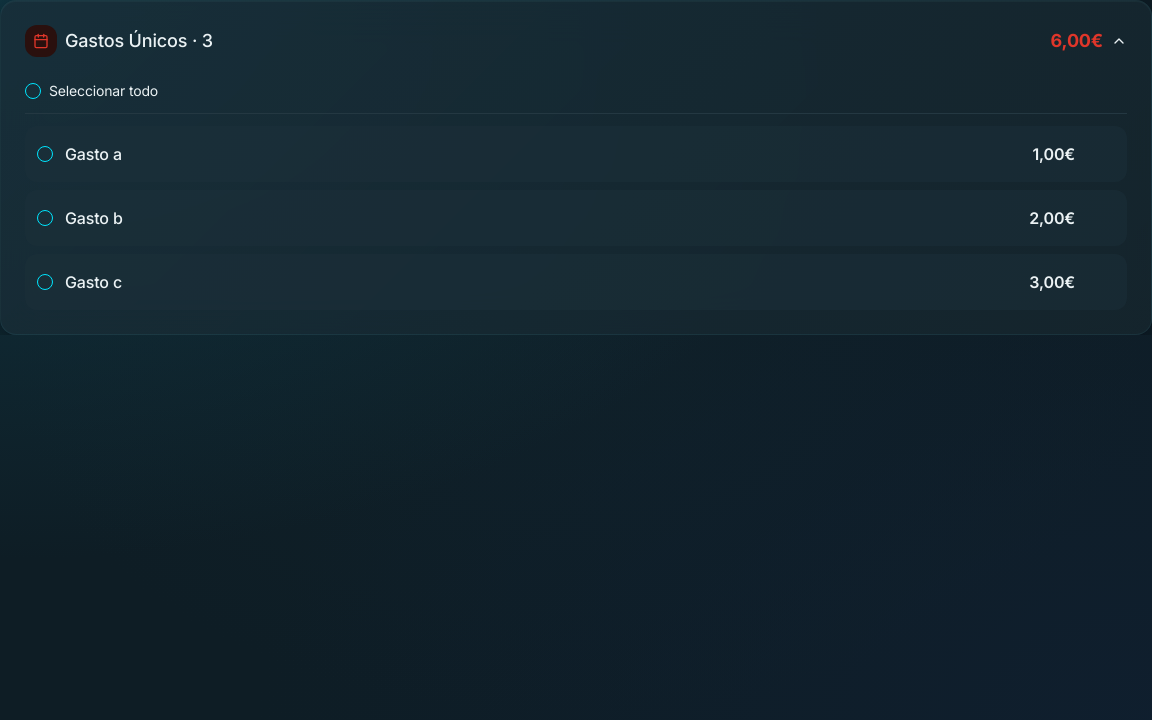
Test: selección y borrado de gastos › elimina una vez cada id seleccionado y ninguno sin seleccionar al confirmar
Earlier steps of the test are not shown.
Step 1. Click the checkbox named "Seleccionar Gasto a" → (45, 154), box [37, 146, 53, 162]
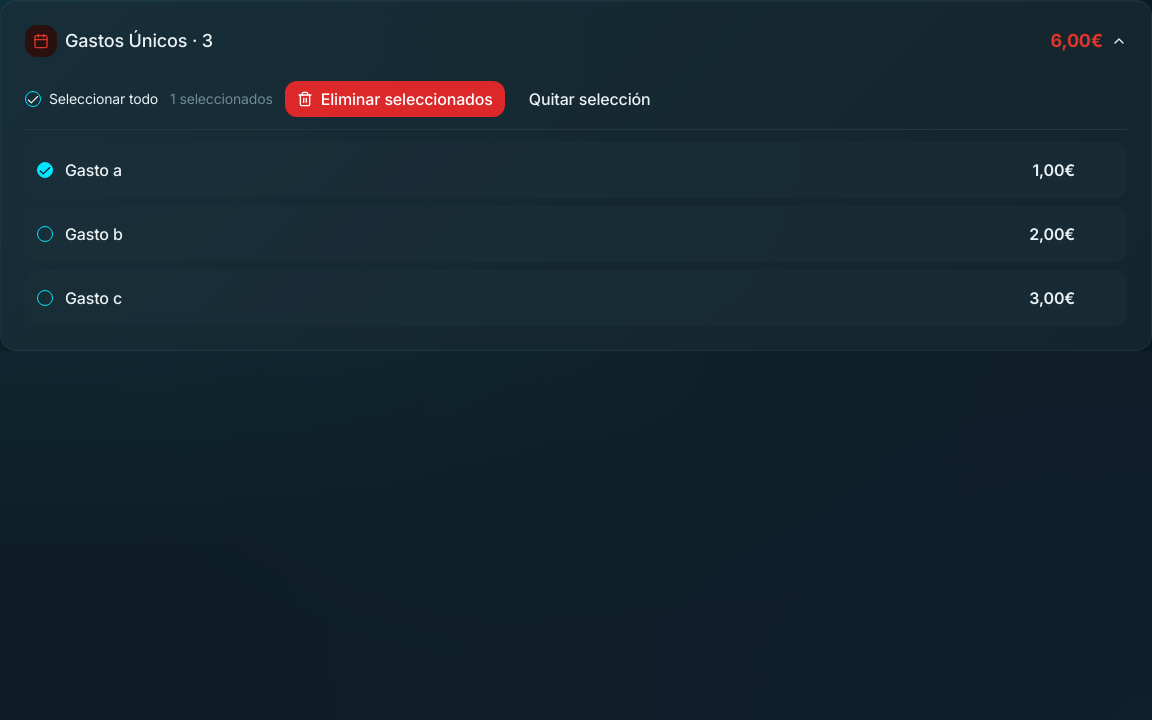
Step 2. Click the checkbox named "Seleccionar Gasto c" → (45, 298), box [37, 290, 53, 306]
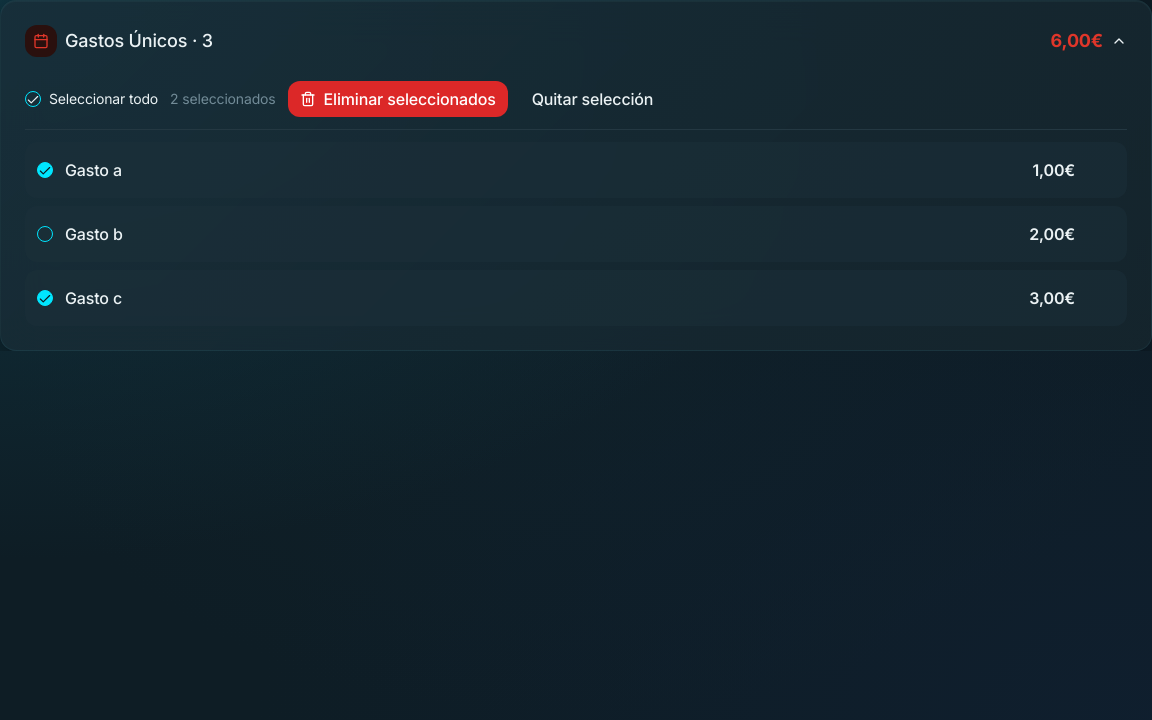
Step 3. Click the button "Eliminar seleccionados" → (398, 99), box [288, 81, 508, 117]
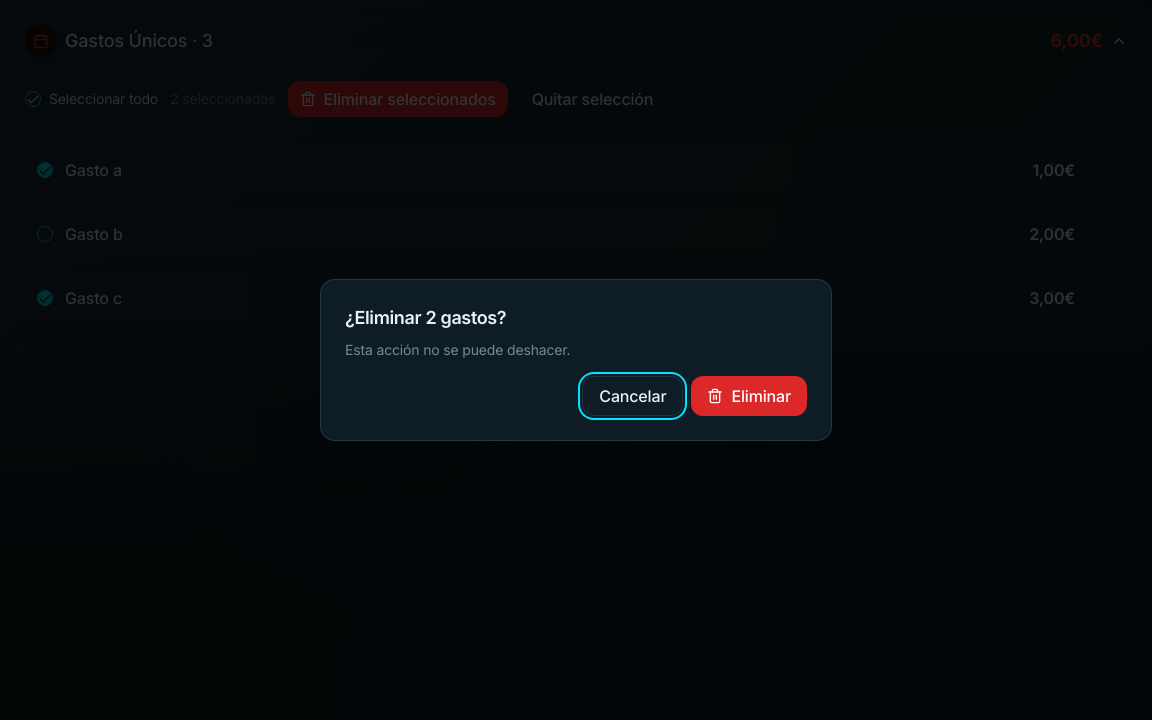
Step 4. Click the button "Eliminar" → (749, 396), box [691, 376, 807, 416]
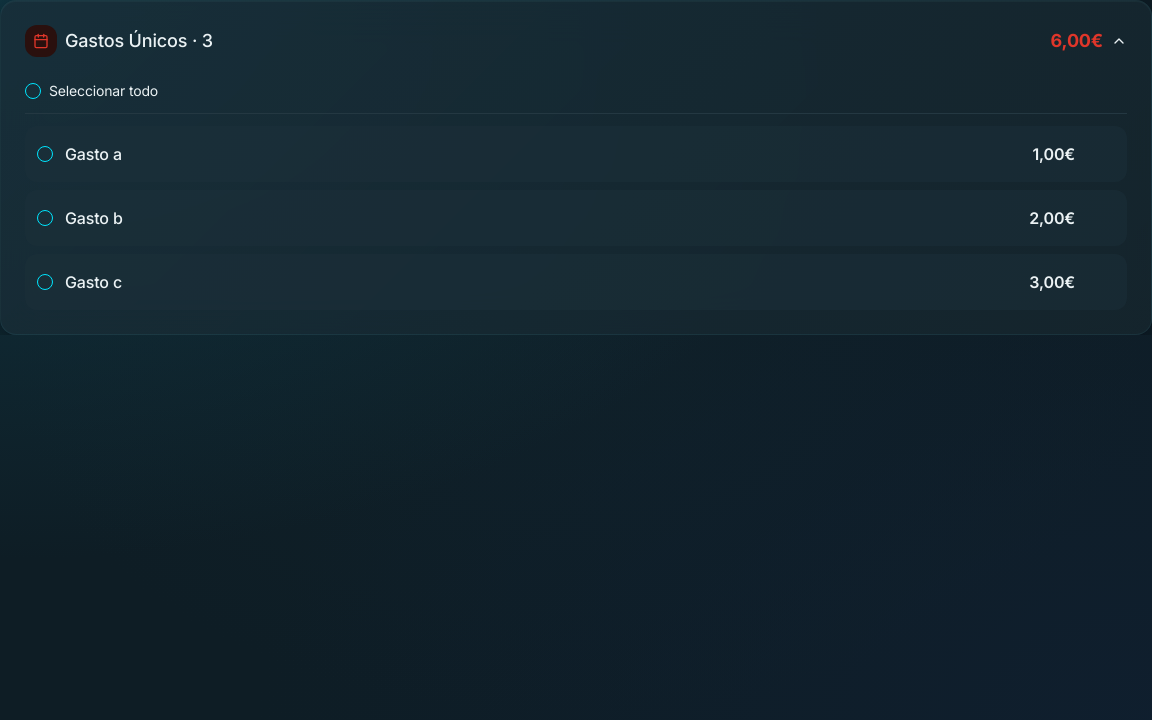
Step 5. Click the button "Gastos Únicos · 3 6,00€" → (41, 41), box [13, 13, 1139, 69]
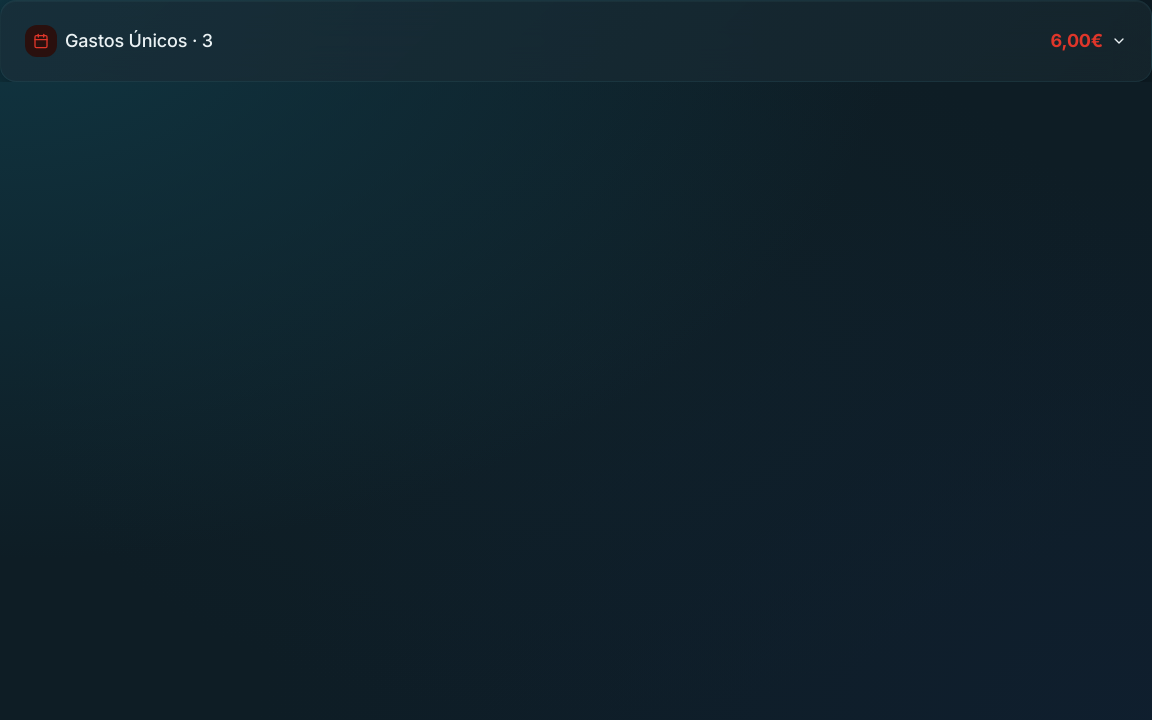
Step 6. Click the button "Gastos Únicos · 3 6,00€" → (41, 41), box [13, 13, 1139, 69]
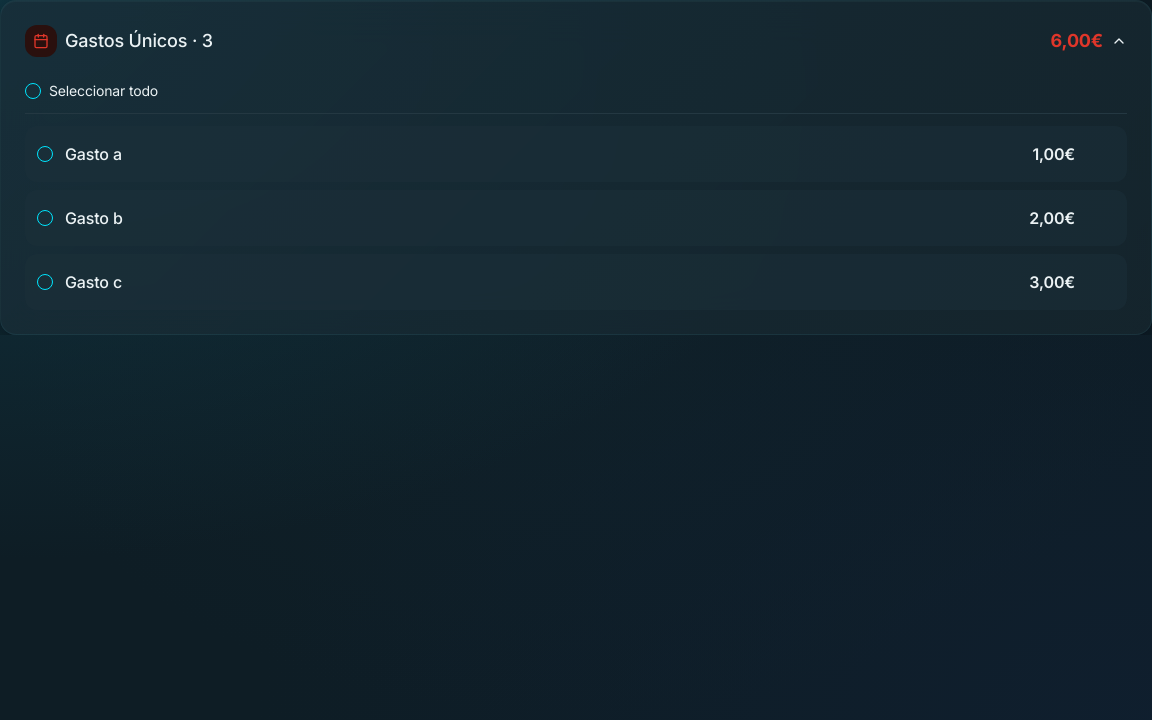
Expected: the checkbox named "Seleccionar Gasto a" is not checked, [37, 146, 53, 162]
Expected: the checkbox named "Seleccionar Gasto c" is not checked, [37, 274, 53, 290]
